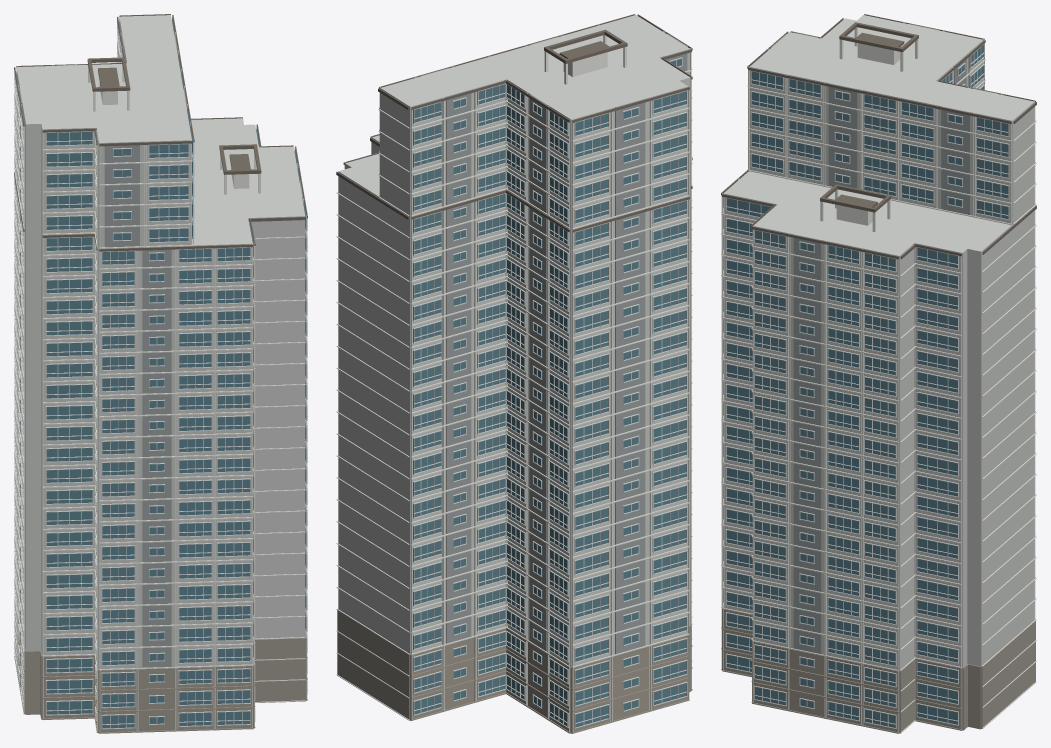
Rendered from bespoke-banpo-xi-111.glb.
The picture shows the model from 3 angles, left to right: view 1: azimuth 30°, elevation 25°; view 2: azimuth 150°, elevation 25°; view 3: azimuth 270°, elevation 25°; orthographic projection. The views are drawn at different scales.
Parts seen in each view (by area): view 1: BX111_editable_BX111_pale_silver_limestone, BX111_editable_BX111_blue_grey_broad_glazing, BX111_editable_BX111_white_window_frames, BX111_editable_BX111_ivory_course_bands, BX111_editable_BX111_grey_service_core, BX111_editable_BX111_warm_ground_stone, BX111_editable_BX111_dark_coping; view 2: BX111_editable_BX111_pale_silver_limestone, BX111_editable_BX111_blue_grey_broad_glazing, BX111_editable_BX111_white_window_frames, BX111_editable_BX111_ivory_course_bands, BX111_editable_BX111_grey_service_core, BX111_editable_BX111_warm_ground_stone, BX111_editable_BX111_dark_coping; view 3: BX111_editable_BX111_pale_silver_limestone, BX111_editable_BX111_blue_grey_broad_glazing, BX111_editable_BX111_white_window_frames, BX111_editable_BX111_ivory_course_bands, BX111_editable_BX111_grey_service_core, BX111_editable_BX111_warm_ground_stone, BX111_editable_BX111_dark_coping.
Part boxes in pixels (<box>): BX111_editable_BX111_pale_silver_limestone: <box>16,15,305,669</box>; BX111_editable_BX111_blue_grey_broad_glazing: <box>16,18,306,728</box>; BX111_editable_BX111_white_window_frames: <box>14,20,307,729</box>; BX111_editable_BX111_ivory_course_bands: <box>14,15,307,732</box>; BX111_editable_BX111_grey_service_core: <box>19,34,303,667</box>; BX111_editable_BX111_warm_ground_stone: <box>14,614,307,733</box>; BX111_editable_BX111_dark_coping: <box>14,14,307,251</box>; BX111_editable_BX111_pale_silver_limestone: <box>338,15,690,667</box>; BX111_editable_BX111_blue_grey_broad_glazing: <box>413,58,686,727</box>; BX111_editable_BX111_white_window_frames: <box>413,57,687,728</box>; BX111_editable_BX111_ivory_course_bands: <box>336,14,692,732</box>; BX111_editable_BX111_grey_service_core: <box>421,33,687,654</box>; BX111_editable_BX111_warm_ground_stone: <box>337,610,692,733</box>; BX111_editable_BX111_dark_coping: <box>336,14,692,232</box>; BX111_editable_BX111_pale_silver_limestone: <box>723,15,1034,732</box>; BX111_editable_BX111_blue_grey_broad_glazing: <box>723,45,1009,727</box>; BX111_editable_BX111_white_window_frames: <box>723,43,1009,728</box>; BX111_editable_BX111_ivory_course_bands: <box>721,14,1036,732</box>; BX111_editable_BX111_grey_service_core: <box>771,24,997,654</box>; BX111_editable_BX111_warm_ground_stone: <box>721,608,1035,733</box>; BX111_editable_BX111_dark_coping: <box>721,14,1036,259</box>.
Bounding box in the file's own units: 39.22 × 79.3 × 37.6.
